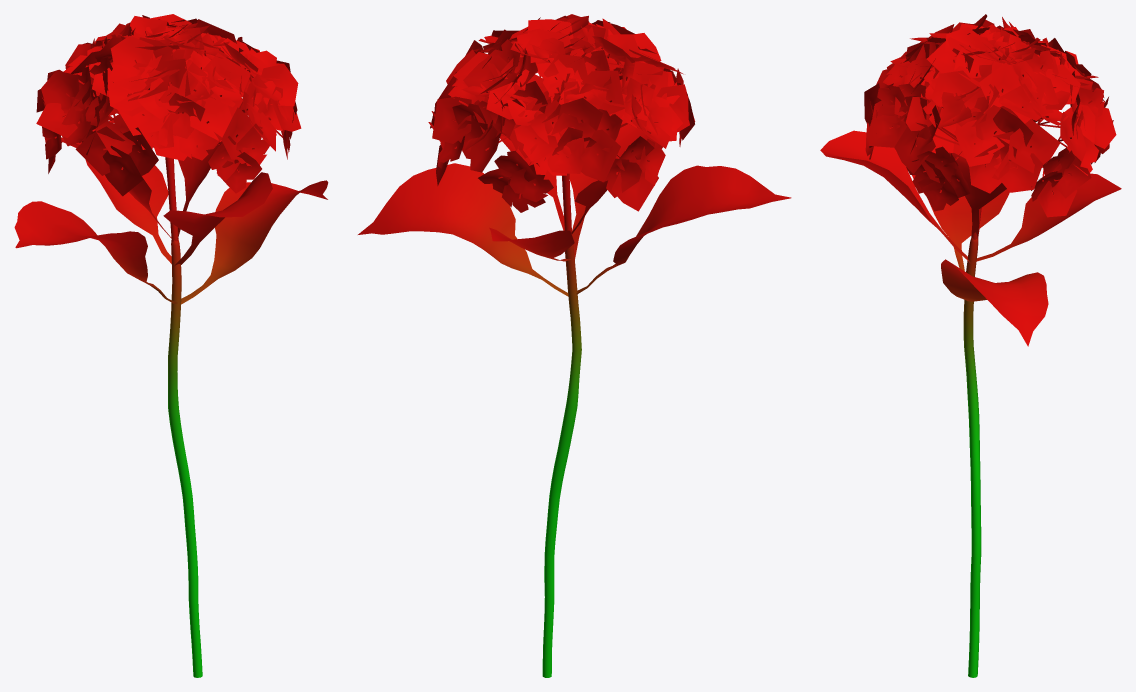
File: Var10_LOD0.fbx
The picture shows the model from 3 angles, left to right: view 1: azimuth 30°, elevation 25°; view 2: azimuth 150°, elevation 25°; view 3: azimuth 270°, elevation 25°; orthographic projection. The views are drawn at different scales.
Parts seen in each view (by area): view 1: _m4kc_Var10_LOD0; view 2: _m4kc_Var10_LOD0; view 3: _m4kc_Var10_LOD0.
Part boxes in pixels (<box>): _m4kc_Var10_LOD0: <box>14,14,328,677</box>; _m4kc_Var10_LOD0: <box>358,14,791,677</box>; _m4kc_Var10_LOD0: <box>820,14,1121,677</box>.
Bounding box in the file's own units: 30.61 × 51.32 × 22.21.
